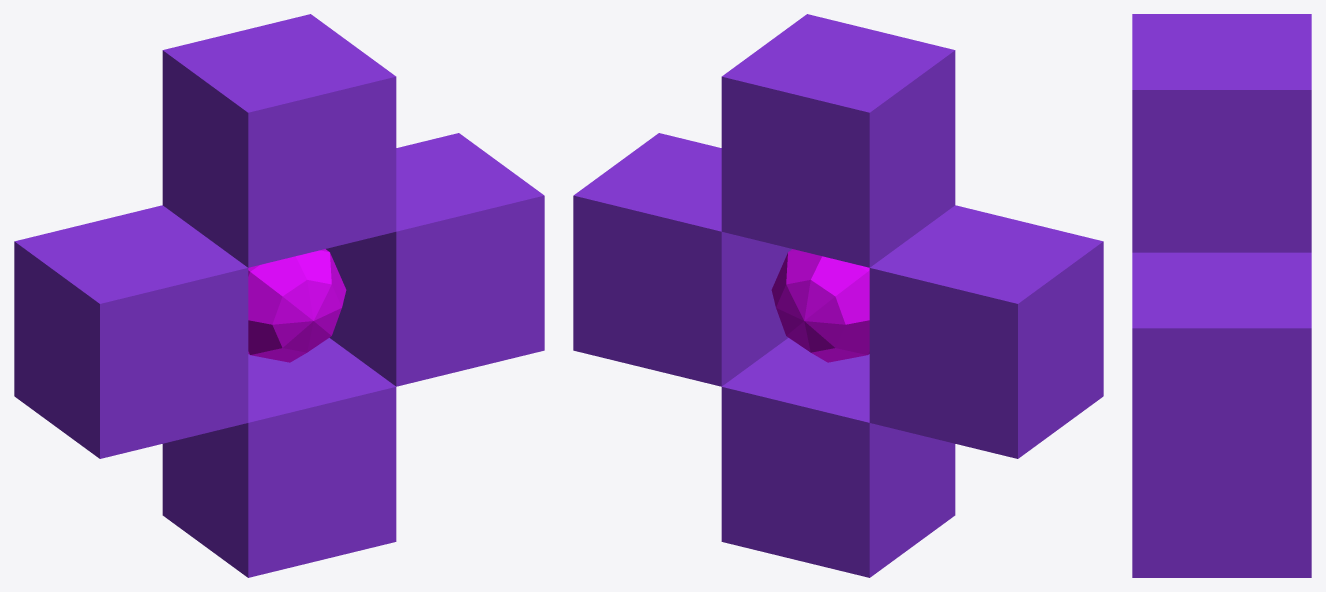
File: Container.dae
3 renders of one model, left to right at view 1: azimuth 30°, elevation 25°; view 2: azimuth 150°, elevation 25°; view 3: azimuth 270°, elevation 25°, orthographic. The views are drawn at different scales.
Parts seen in each view (by area): view 1: Cube; view 2: Cube; view 3: Cube.
Part boxes in pixels (x1,y1,x2,y2): Cube: [14, 14, 544, 577]; Cube: [573, 14, 1103, 577]; Cube: [1132, 14, 1311, 577].
Size of the model in its own units: 0.75 by 0.25 by 0.75.
